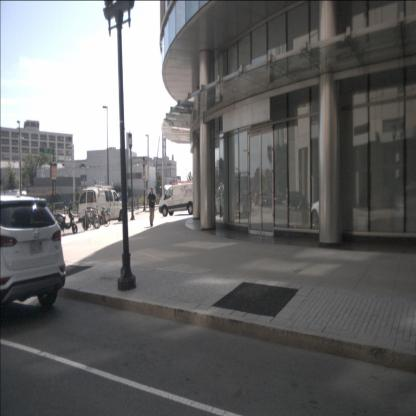human-pedestrian-adult: (146, 185, 158, 228)
vehicle-car: (0, 195, 66, 329), (78, 182, 126, 224), (158, 182, 202, 217), (310, 198, 353, 227), (213, 182, 228, 217), (287, 191, 307, 210), (256, 192, 275, 206)
vehicle-motorcycle: (53, 206, 78, 235)
